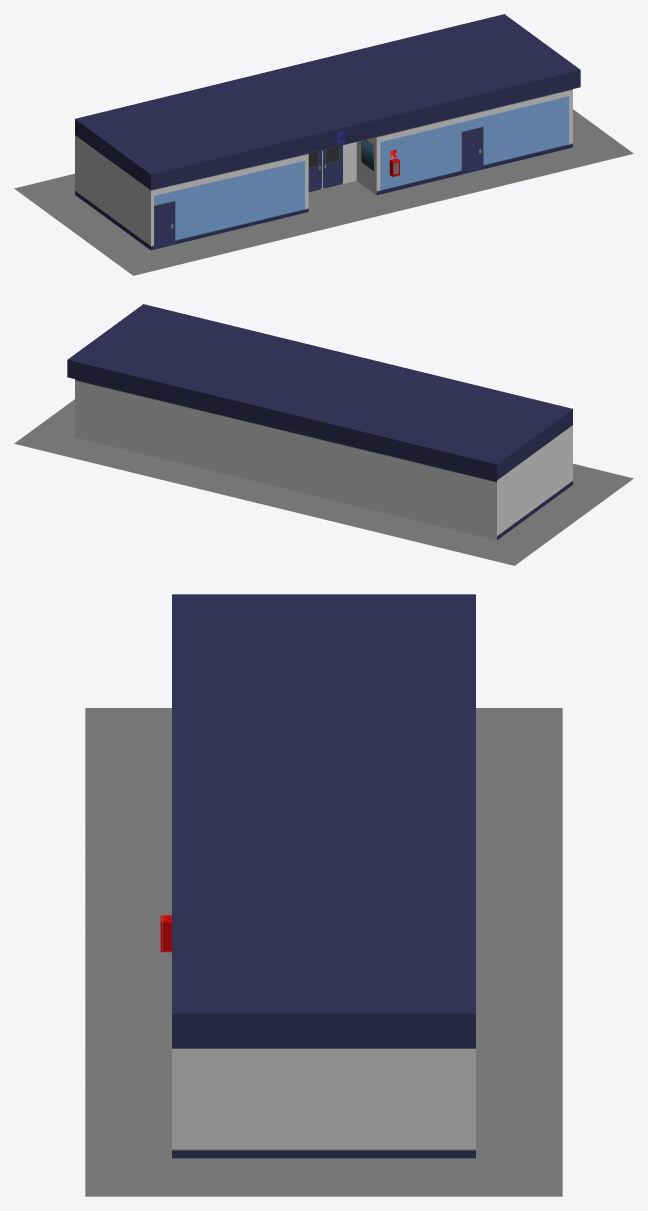
3 views of the same model, one above another, from view 1: azimuth 30°, elevation 25°; view 2: azimuth 150°, elevation 25°; view 3: azimuth 270°, elevation 25° (orthographic). The views are drawn at different scales.
Parts seen in each view (by area): view 1: N27_lowpoly; view 2: N27_lowpoly; view 3: N27_lowpoly.
Part boxes in pixels (x1,y1,x2,y2): N27_lowpoly: (14,14,633,275); N27_lowpoly: (14,304,633,565); N27_lowpoly: (85,594,562,1196).
Bounding box in the file's own units: 3162 × 458 × 1306.
